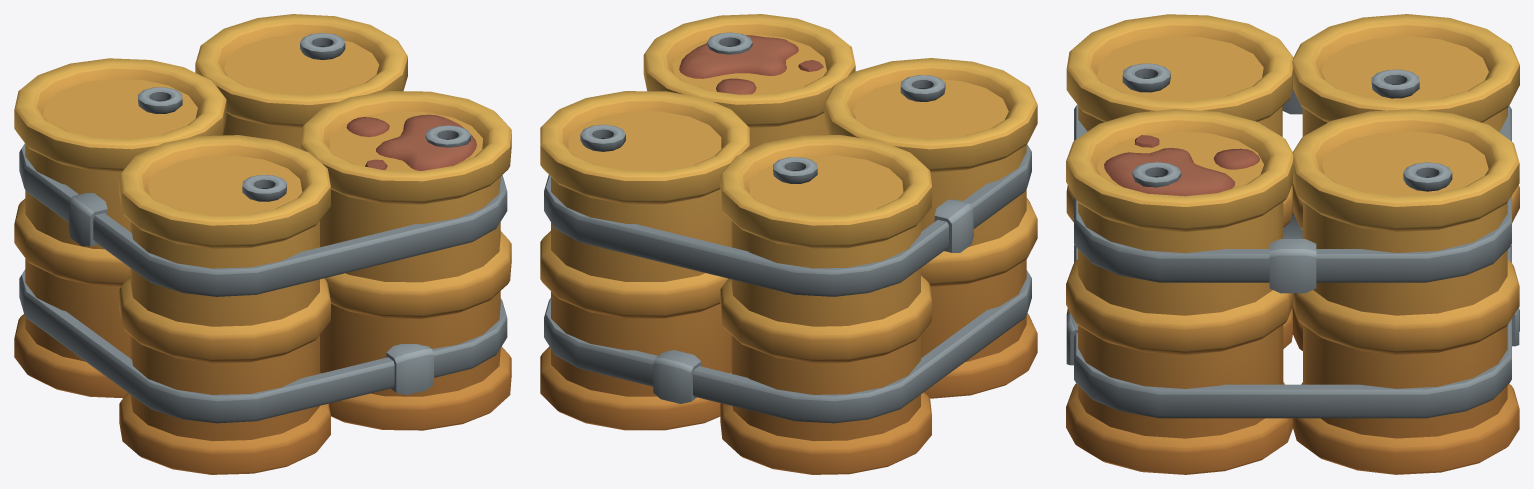
The model's file is Fuel_B_Barrels.glb.
The picture shows the model from 3 angles, left to right: view 1: azimuth 30°, elevation 25°; view 2: azimuth 150°, elevation 25°; view 3: azimuth 270°, elevation 25°; orthographic projection. The views are drawn at different scales.
Parts seen in each view (by area): view 1: Fuel_B_Barrels; view 2: Fuel_B_Barrels; view 3: Fuel_B_Barrels.
Part boxes in pixels (x1,y1,x2,y2): Fuel_B_Barrels: (14, 14, 511, 474); Fuel_B_Barrels: (540, 14, 1037, 474); Fuel_B_Barrels: (1066, 14, 1519, 474).
Bounding box in the file's own units: 1.51 × 1.01 × 1.51.
1 material, 1 textured.
